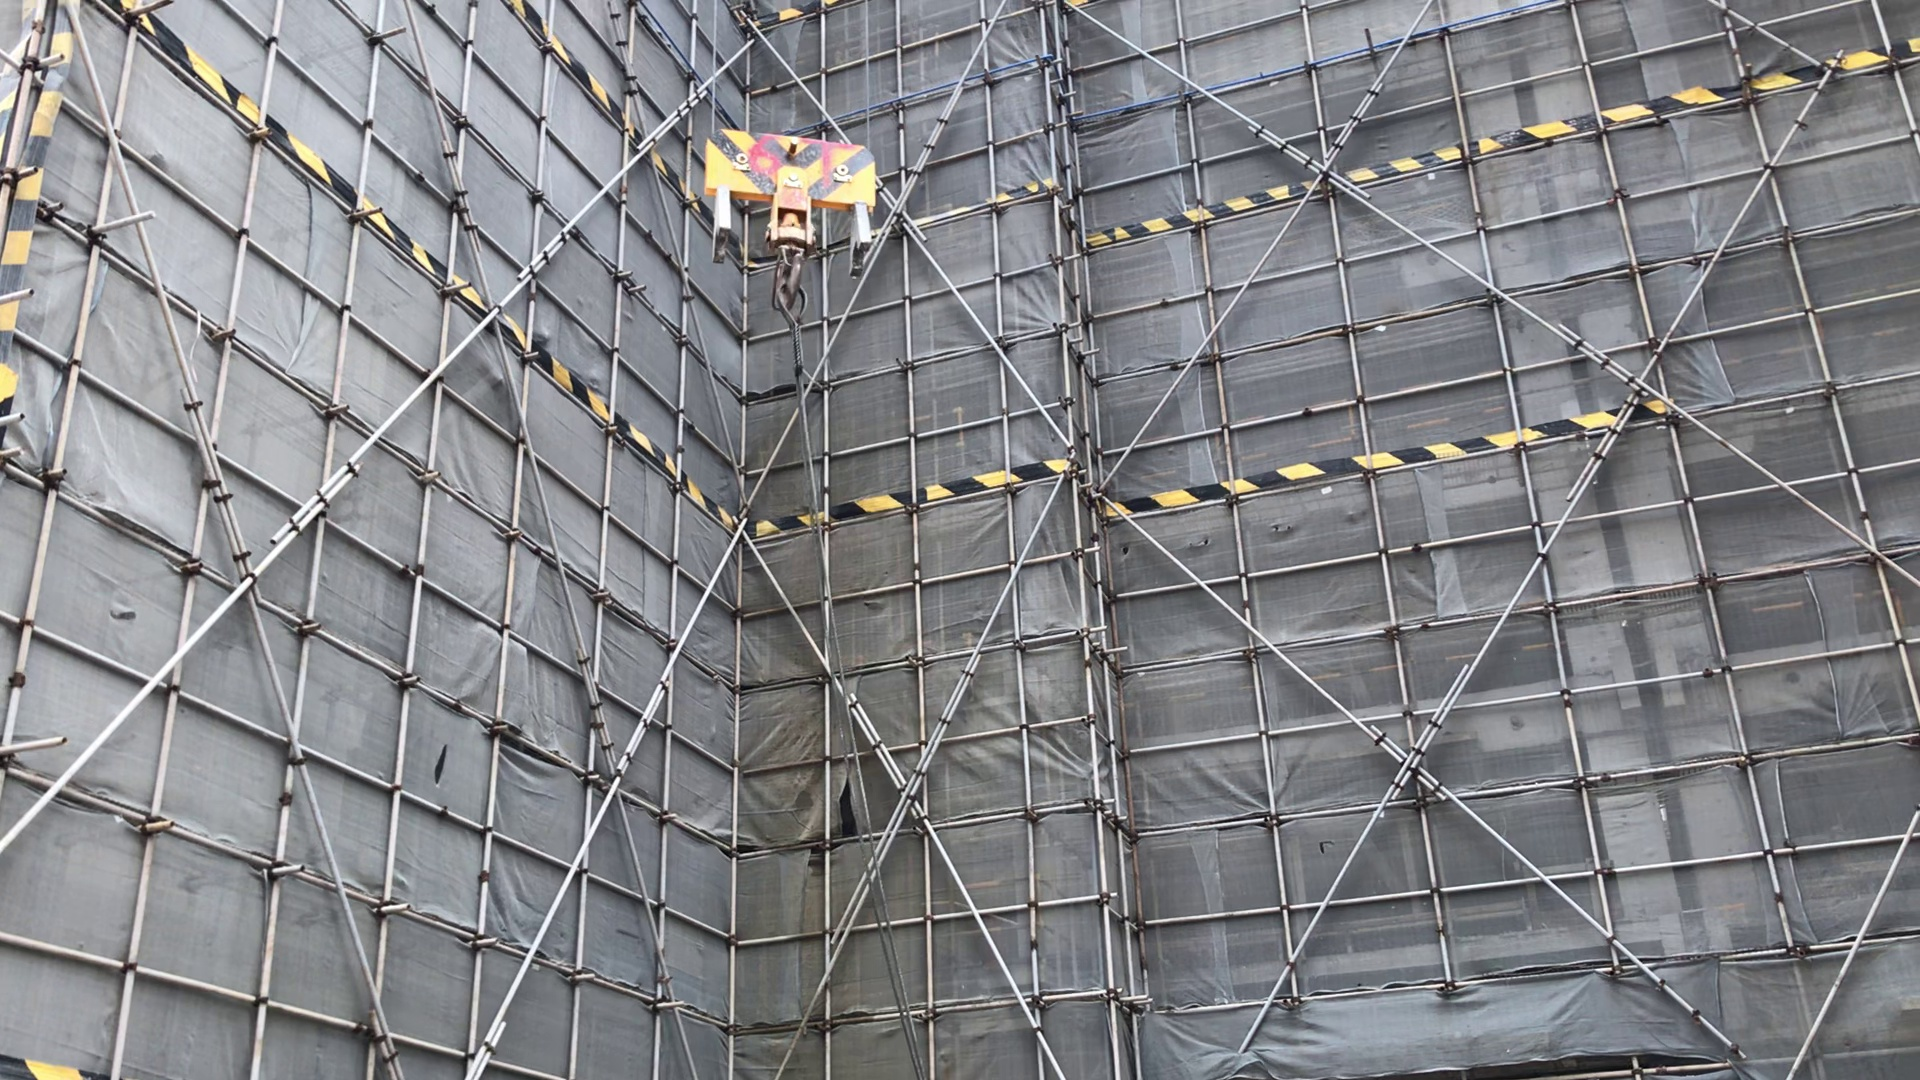hook: (703, 129, 881, 310)
